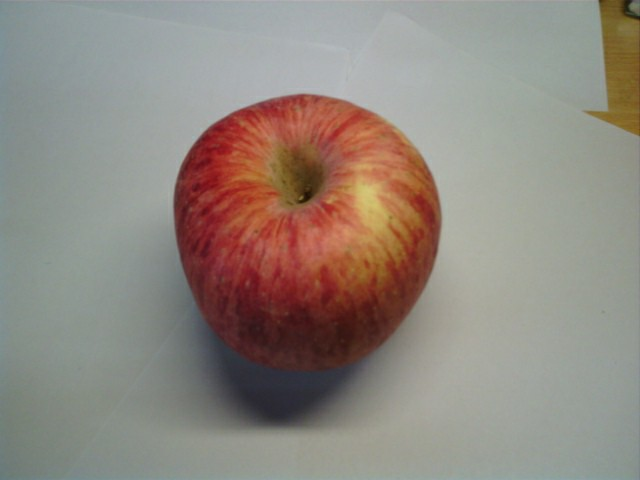normal_apple: (169, 90, 444, 375)
